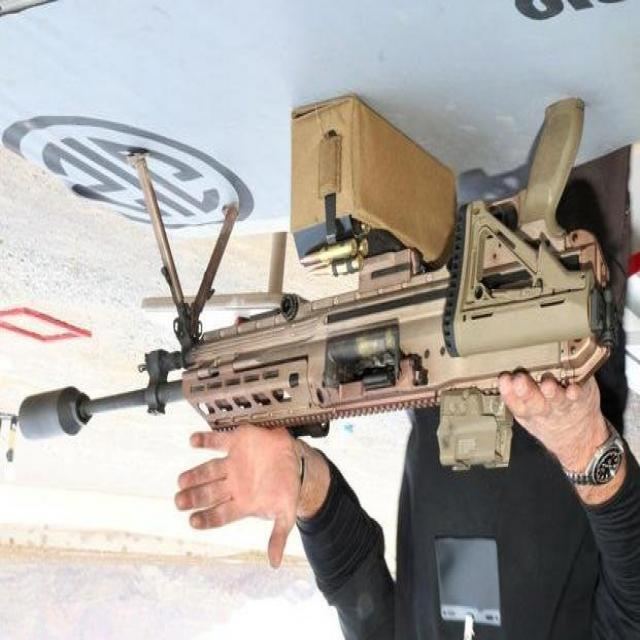weapon: (18, 147, 619, 442)
